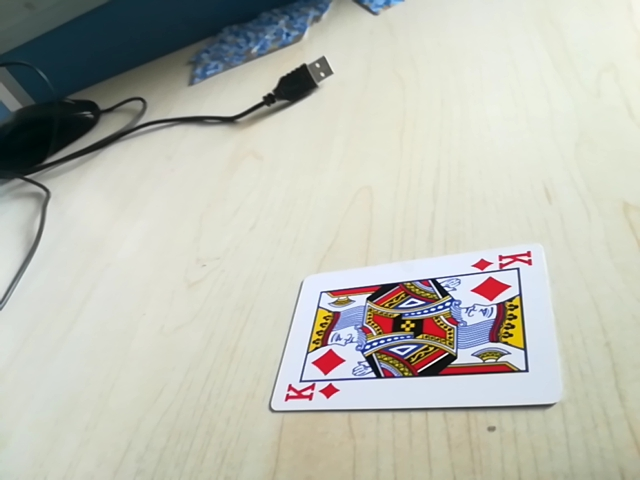fk k: (470, 248, 536, 275), (279, 381, 344, 407)
